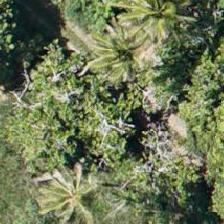coconut_tree: (23, 154, 113, 223), (107, 0, 197, 52)
